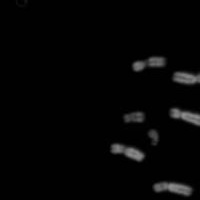chromosome: (111, 144, 144, 162), (169, 108, 200, 126), (153, 183, 191, 197), (132, 57, 165, 71), (173, 70, 200, 84), (124, 112, 144, 124), (148, 129, 158, 145)
